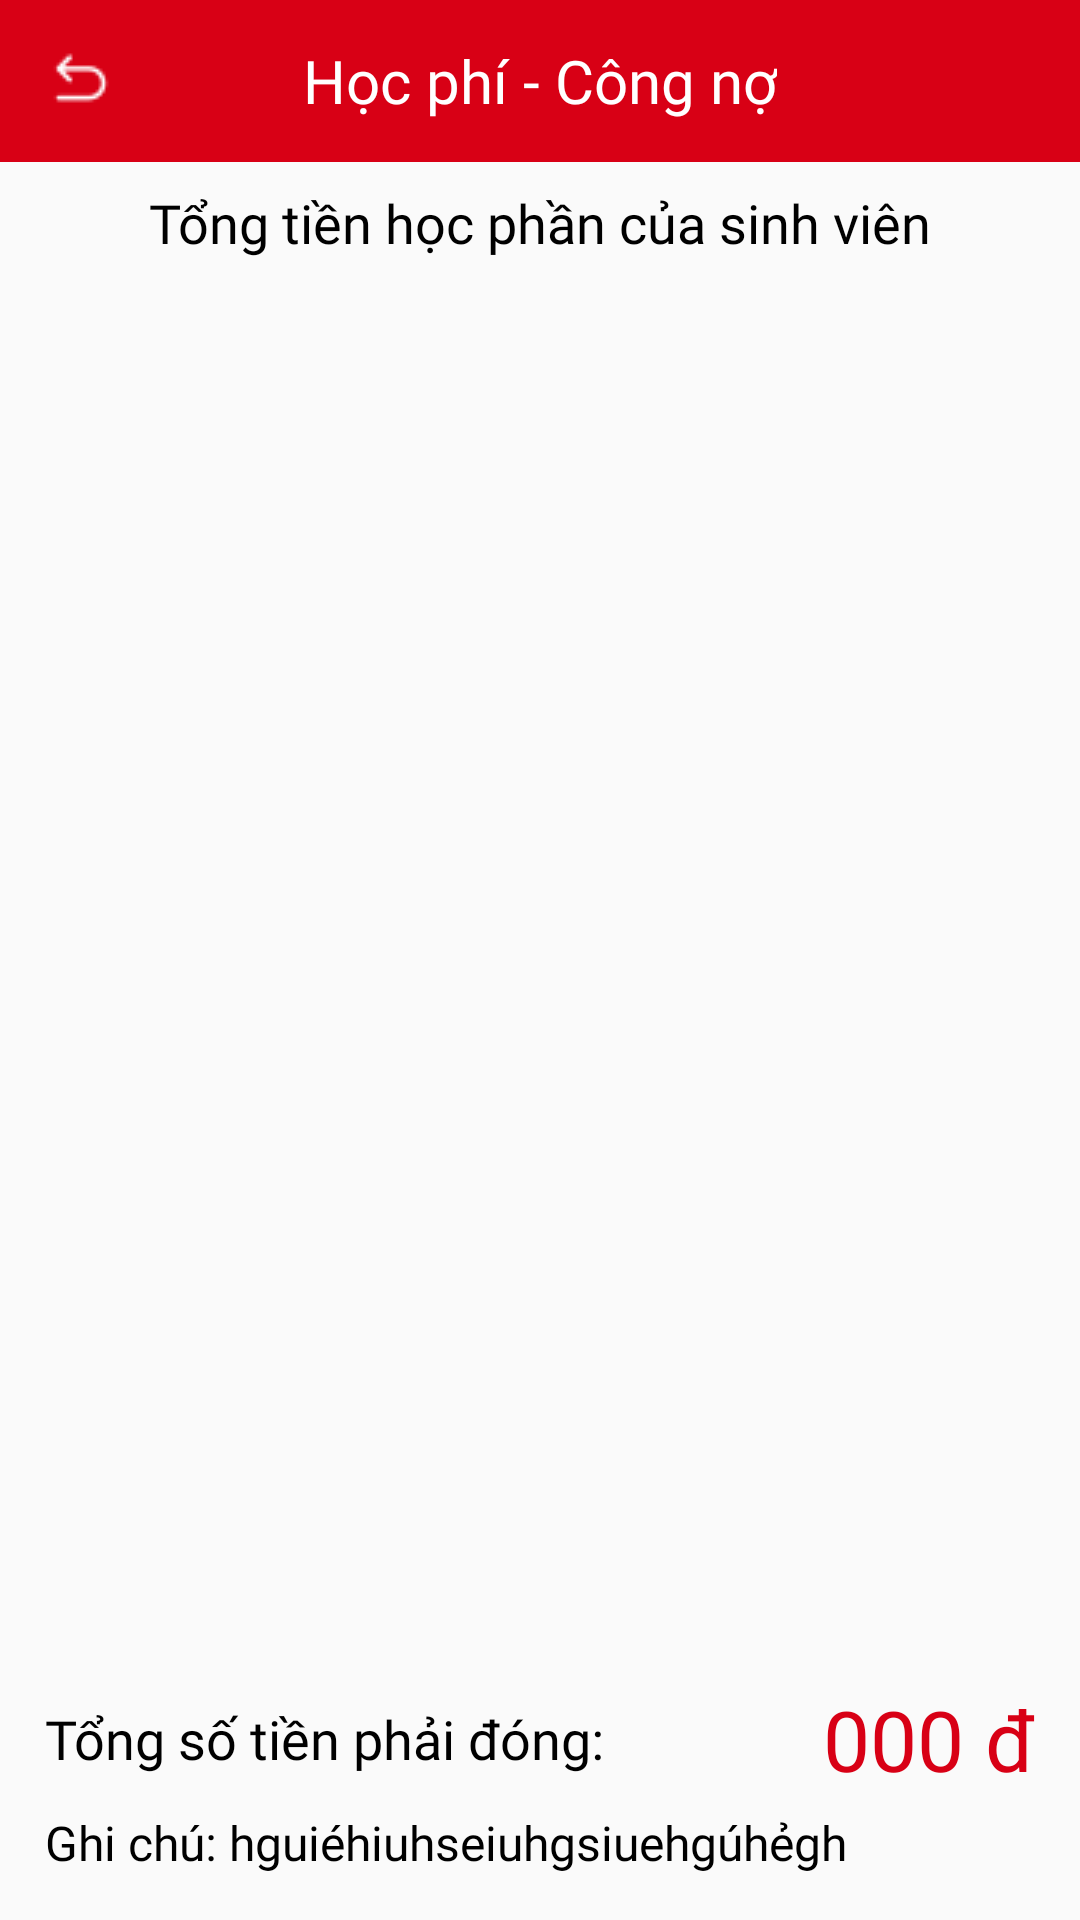

Where to tap for icons on this 1080*1920 app screen, as (x=x, y=y):
return: (x=81, y=78)
